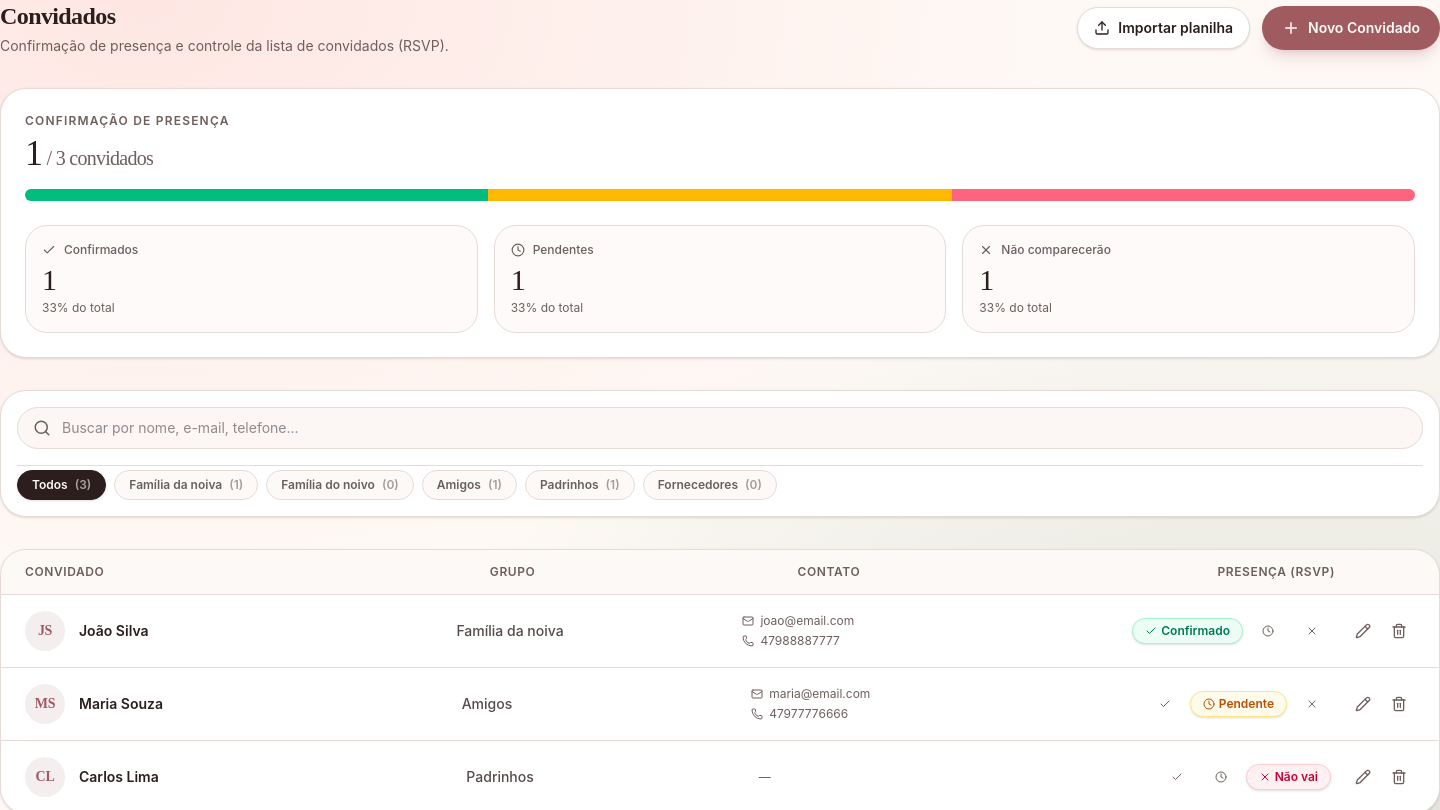
Test: ConvidadosPage Component › deve excluir um convidado ao confirmar
Expected: the text "João Silva" is shown, [79, 621, 149, 641]
Click the button titled "Remover convidado" in the row of "JS" at (1399, 631), box [1383, 615, 1415, 647]
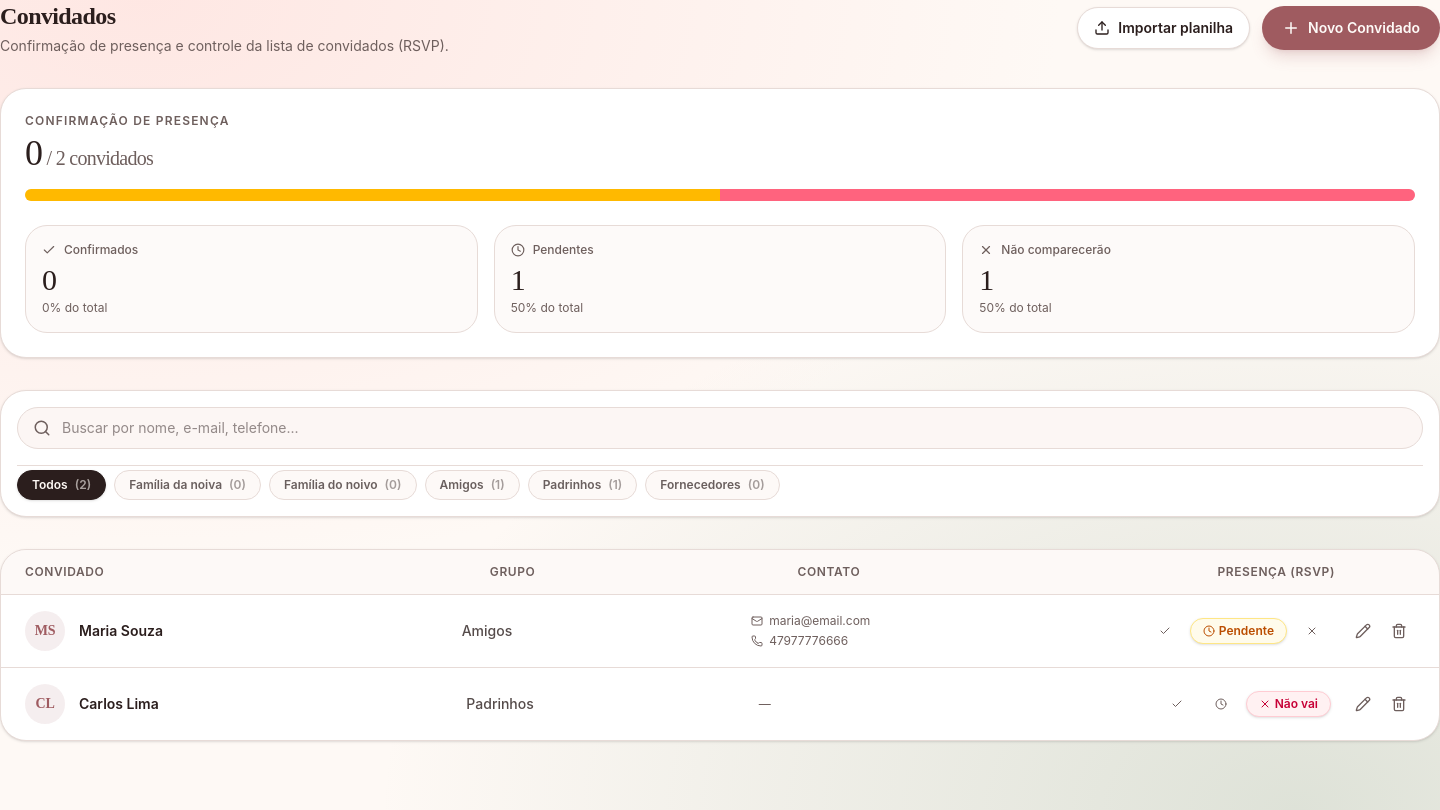
Now the text "João Silva" is gone
